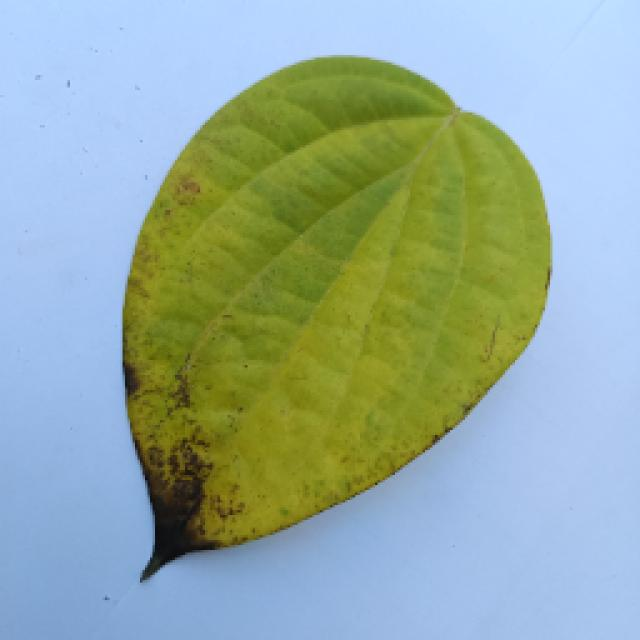slow-decline: (92, 65, 590, 597)
